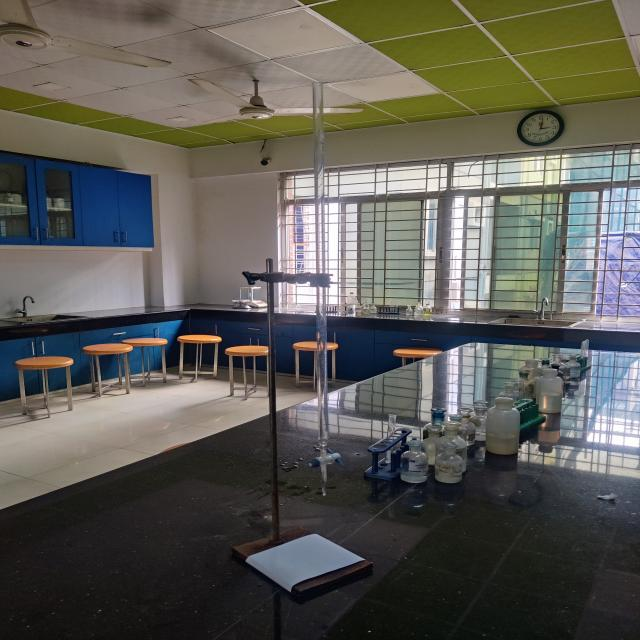Burette_Stands: (236, 74, 374, 604)
